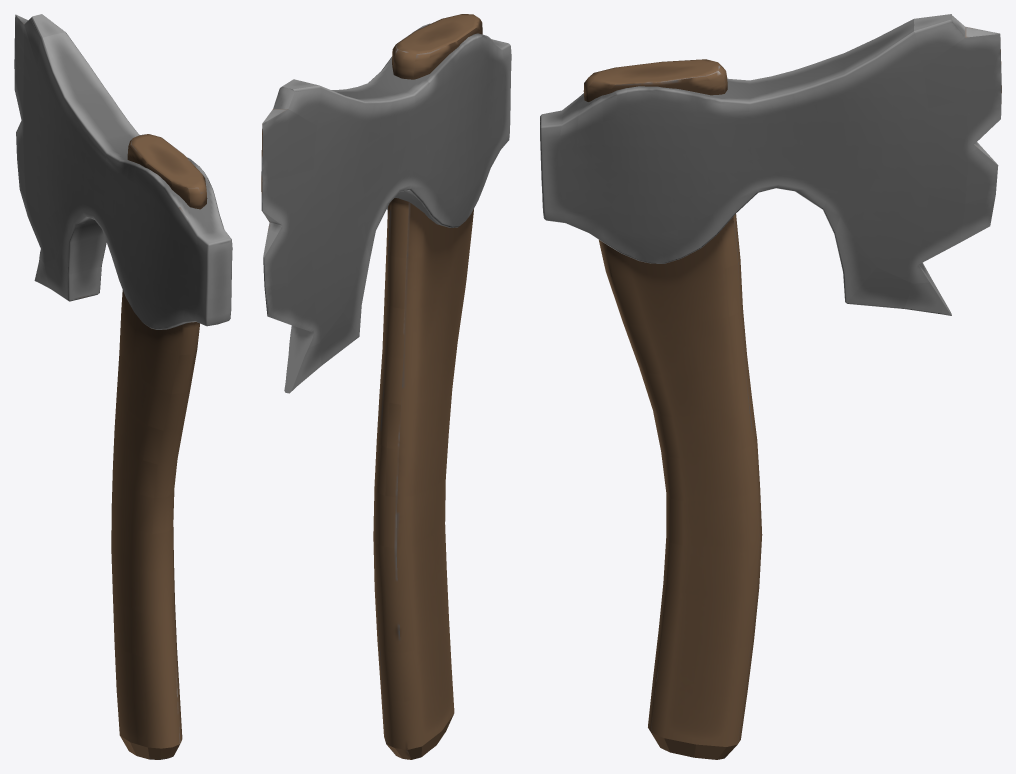
The model's file is axe.glb.
The picture shows the model from 3 angles, left to right: view 1: azimuth 30°, elevation 25°; view 2: azimuth 150°, elevation 25°; view 3: azimuth 270°, elevation 25°; orthographic projection. The views are drawn at different scales.
Parts seen in each view (by area): view 1: Axe; view 2: Axe; view 3: Axe.
Boxes of the visible parts, x1,y1,x2,y2 form: Axe: (14,14,232,759); Axe: (261,14,511,759); Axe: (540,14,1001,759).
Bounding box in the file's own units: 0.8257 × 10.85 × 6.15.
Materials: 1 (1 with a texture image).
